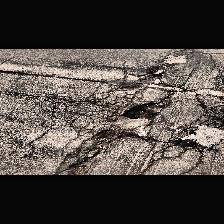pothole: (119, 102, 152, 120), (98, 128, 134, 138), (66, 160, 90, 174), (146, 65, 166, 79), (174, 139, 198, 149)
